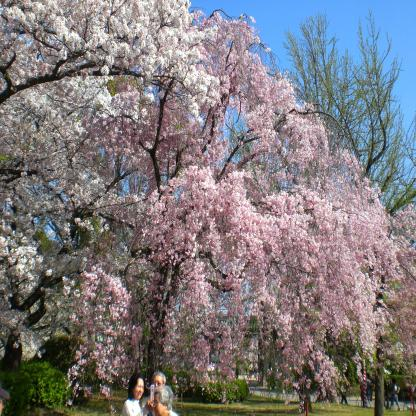Someiyoshino: (1, 0, 217, 368)
